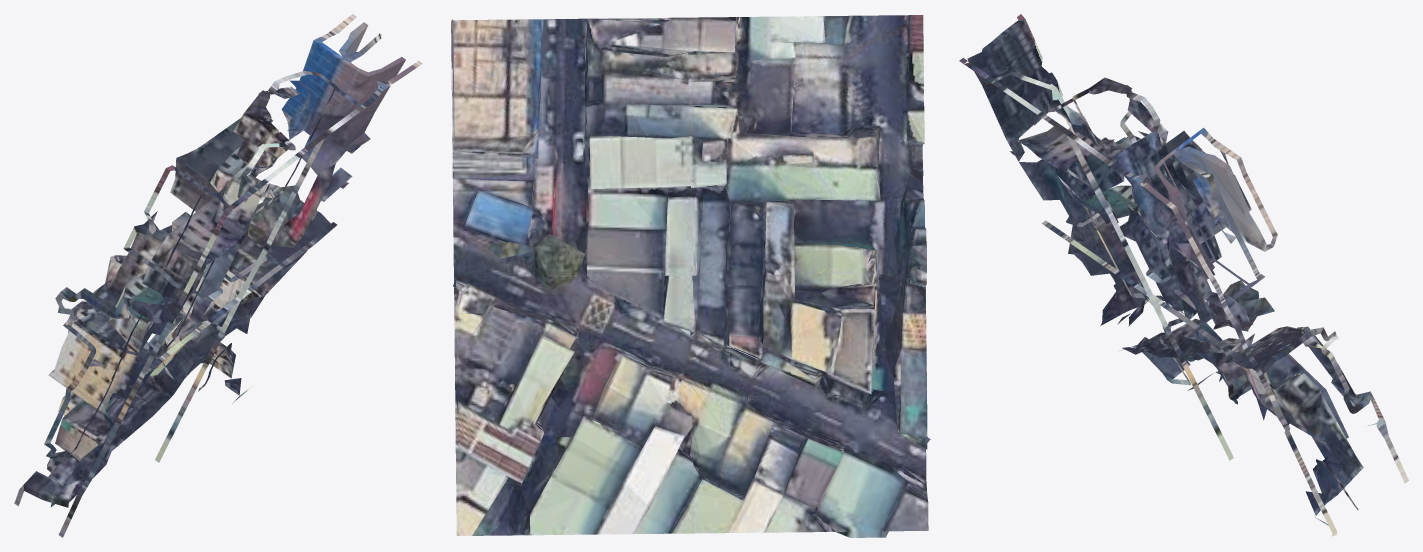
The picture shows the model from 3 angles, left to right: view 1: azimuth 30°, elevation 25°; view 2: azimuth 150°, elevation 25°; view 3: azimuth 270°, elevation 25°; orthographic projection. The views are drawn at different scales.
Bounding box in the file's own units: 81.19 × 75.74 × 76.12.
1 material, 1 textured.
